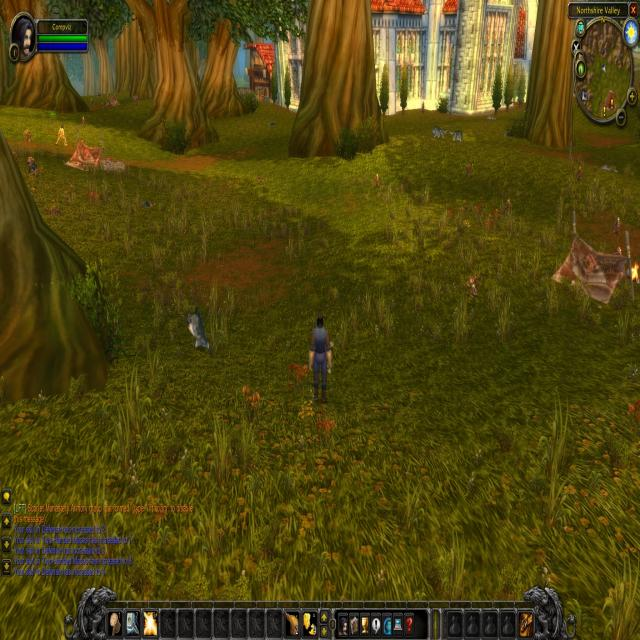wolf: (184, 299, 214, 357), (429, 120, 449, 146), (447, 126, 467, 149), (598, 160, 620, 179), (484, 110, 498, 125), (265, 116, 278, 130)
